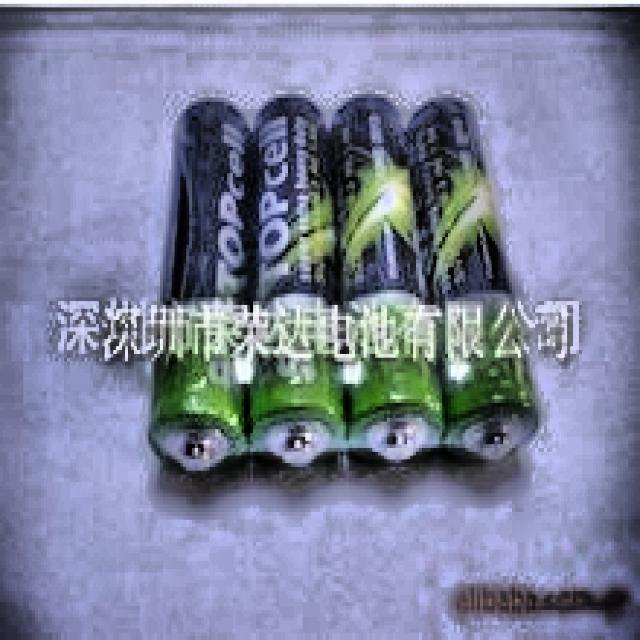Non-Valuable Waste - Batteries: (406, 99, 539, 460), (328, 95, 441, 462), (149, 100, 250, 472), (250, 95, 345, 465)
